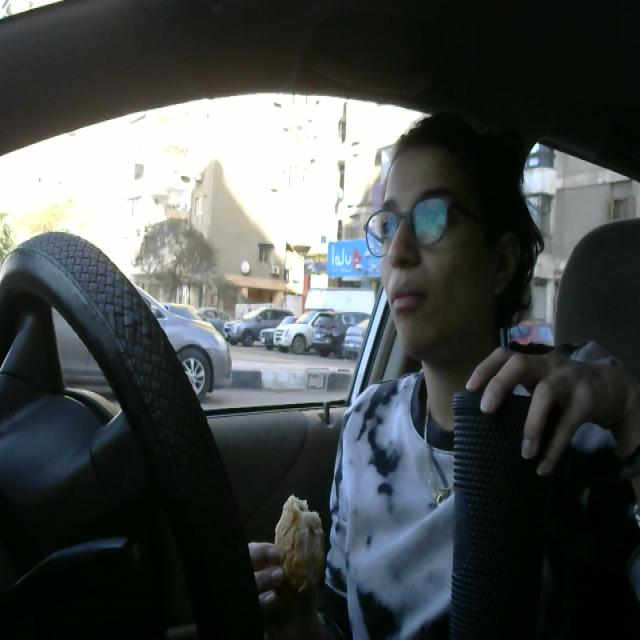drinking: (454, 316, 542, 640)
eating: (258, 489, 330, 605)
